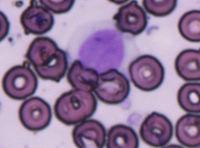L: (76, 23, 127, 78)
